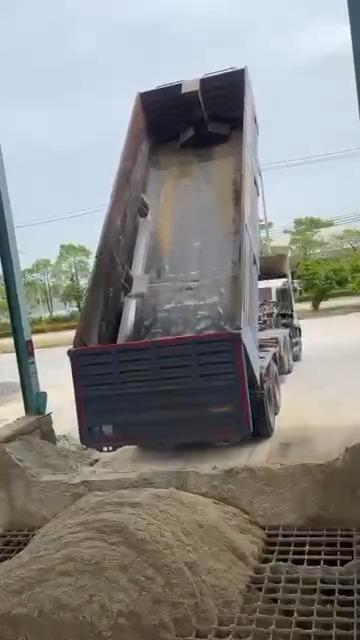sand: (0, 489, 262, 639), (0, 433, 359, 525), (265, 560, 359, 584)
